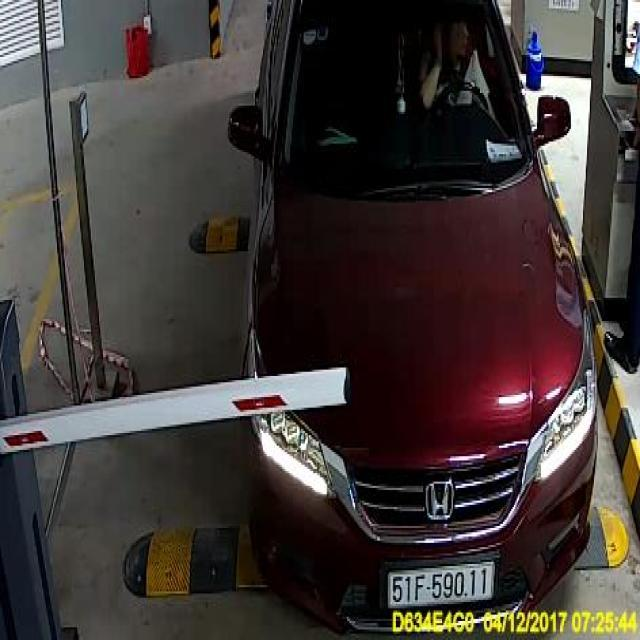bien_so_oto: (386, 561, 495, 608)
